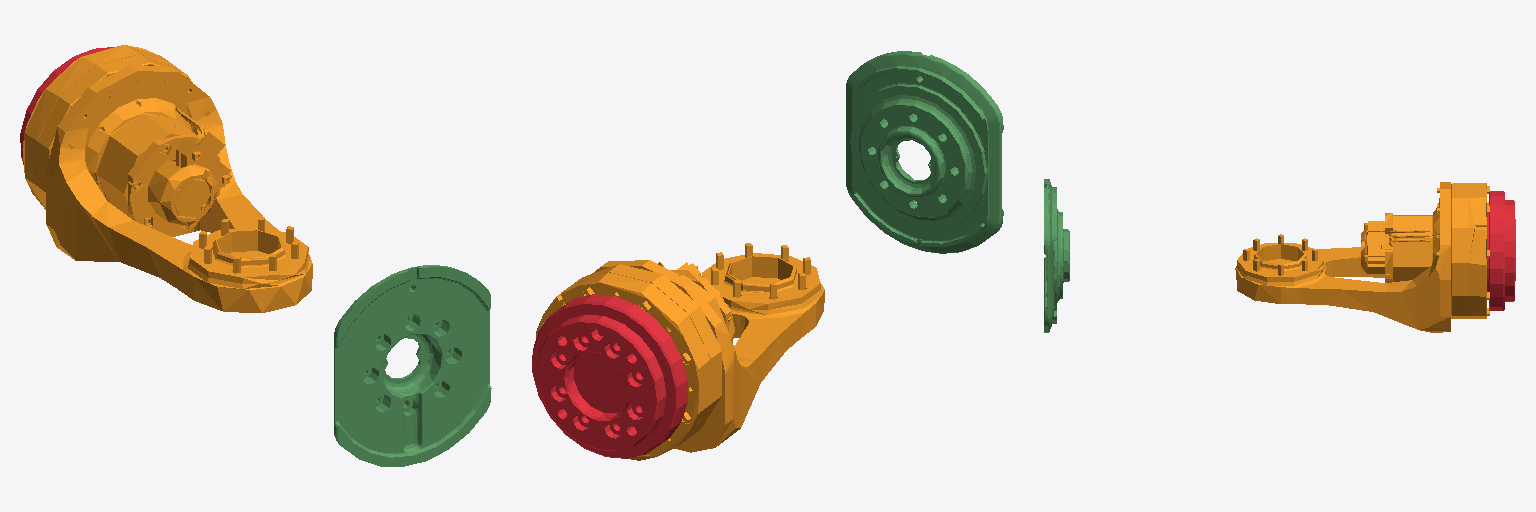
The robot description file, URDF, robot "nasa_forearm":
<?xml version="1.0"?>
<robot name="nasa_forearm">

	<link name = "world"/>

	<joint name="world_to_base" type="fixed">
		<parent link="world"/>
		<child link="base"/>
	</joint>

	<link name="base">
		<visual>
			<geometry>
				<mesh filename="package://val_description/model/meshes/forearm/nasa/link1.stl"/>
			</geometry>
			<origin xyz="0.0 0.0 0.0" rpy="0.0 0.0 0.0"/>
			<material name="forest_gree_crayola">
				<color rgba="0.38823529 0.64313725 0.42352941 1"/>
			</material>
		</visual>
		<collision>
			<geometry>
				<mesh filename="package://val_description/model/meshes/forearm/nasa/link1.stl"/>
			</geometry>
			<origin xyz="0.0 0.0 0.0" rpy="0.0 0.0 0.0"/>
		</collision>
	</link>

	<link name="input_link">
		<visual>
			<geometry>
				<mesh filename="package://val_description/model/meshes/forearm/nasa/link2.stl"/>
			</geometry>
			<origin xyz="0 0 0.0"/>
			<material name="spanish_violet">
				<color rgba="0.30588235 0.16470588 0.52156863 1"/>
			</material>
		</visual>
		<collision>
			<geometry>
				<mesh filename="package://val_description/model/meshes/forearm/nasa/link2.stl"/>
			</geometry>
			<origin xyz="0 0 0.0"/>
		</collision>

	</link>
	
	<link name="output_link">
		<visual>
			<geometry>
				<mesh filename="package://val_description/model/meshes/forearm/nasa/link3.stl"/>
			</geometry>
			<origin xyz="0 0 0.0"/>
			<material name="yellow_orange">
				<color rgba="1.0 0.65098039 0.18823529 1"/>
			</material>
		</visual>
		<collision>
			<geometry>
				<mesh filename="package://val_description/model/meshes/forearm/nasa/link3.stl"/>
			</geometry>
			<origin xyz="0 0 0.0"/>
		</collision>
	</link> 

	 <link name="end_effector">
		<visual>
			<geometry>
				<mesh filename="package://val_description/model/meshes/forearm/nasa/link4.stl" />
			</geometry>
			<origin xyz="0 0 0.0"/>
			<material name="imperial_red">
				<color rgba="0.90196078 0.22352941 0.2745098 1"/>
			</material>
		</visual>
		<collision>
			<geometry>
				<mesh filename="package://val_description/model/meshes/forearm/nasa/link4.stl" />
			</geometry>
			<origin xyz="0 0 0.0"/>
		</collision>
	</link>
 
	<joint name="first_roll" type="revolute">
		<axis xyz="0 0 1"/>
		<limit effort="1000.0" lower="-3.1415" upper="3.1415" velocity="0.5"/>
		<parent link = "base"/>
		<child link="input_link"/>
		<origin xyz="0.0 0.01 0.0" rpy="1.57 3.14 0.0"/>
	</joint>

	<joint name="pitch" type="revolute">
		<axis xyz="0 0 1"/>
		<limit effort="1000.0" lower="-1.22173" upper="1.91986" velocity="0.5"/>
		<parent link="input_link"/>
		<child link="output_link"/>
		<origin xyz="0 0.003 -0.134 " rpy="1.57 0.0 3.14"/>
	</joint>

	<joint name="second_roll" type="revolute">
		<axis xyz="0 0 1"/>
		<limit effort="1000.0" lower="-3.1415" upper="3.1415" velocity="0.5"/>
		<parent link="output_link"/>
		<child link="end_effector"/>
		<origin xyz=" 0.0 -0.124 -0.006" rpy=" 1.57 3.14 3.14"/>
	</joint>

</robot>

--- Facts derived from the render (not from the file) ---
Views: 3 orthographic renders of the robot side by side, from view 1: azimuth 30°, elevation 25°; view 2: azimuth 150°, elevation 25°; view 3: azimuth 270°, elevation 25°.
Robot: nasa_forearm — 5 links, 4 joints (3 revolute, 1 fixed); root link world; default pose: every joint at zero.
Links seen in each view (by area): view 1: output_link, base, end_effector; view 2: base, output_link, end_effector; view 3: output_link, end_effector, base.
Link boxes in pixels (x1,y1,x2,y2): output_link: [22, 45, 312, 312]; base: [334, 265, 491, 466]; end_effector: [20, 47, 113, 164]; base: [846, 51, 1003, 253]; output_link: [536, 243, 824, 460]; end_effector: [532, 294, 687, 458]; output_link: [1235, 182, 1489, 332]; end_effector: [1487, 191, 1515, 310]; base: [1044, 179, 1069, 332].
Bounding box of the posed robot: 0.085 × 0.2901 × 0.0948 m (x, y, z).
3 mesh visuals loaded from 4 distinct referenced files (3 binary STL); not drawn: 1 (reference not matched to a file when rendering).